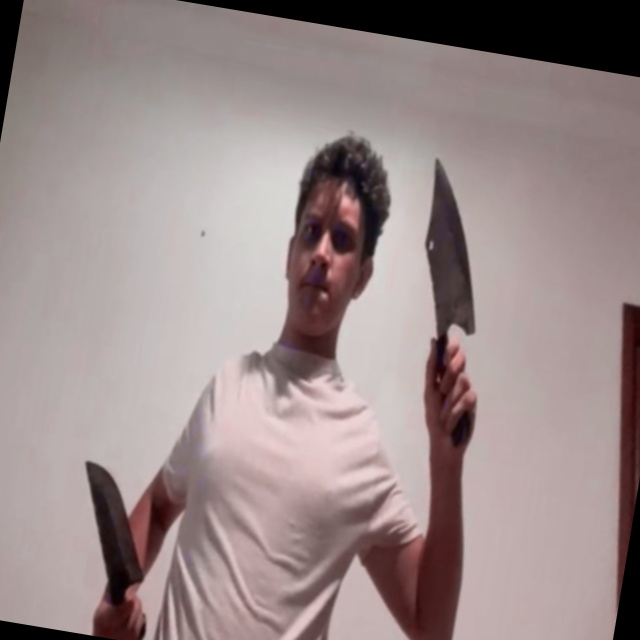Sharp-Object: (407, 157, 502, 338), (67, 459, 162, 589)
